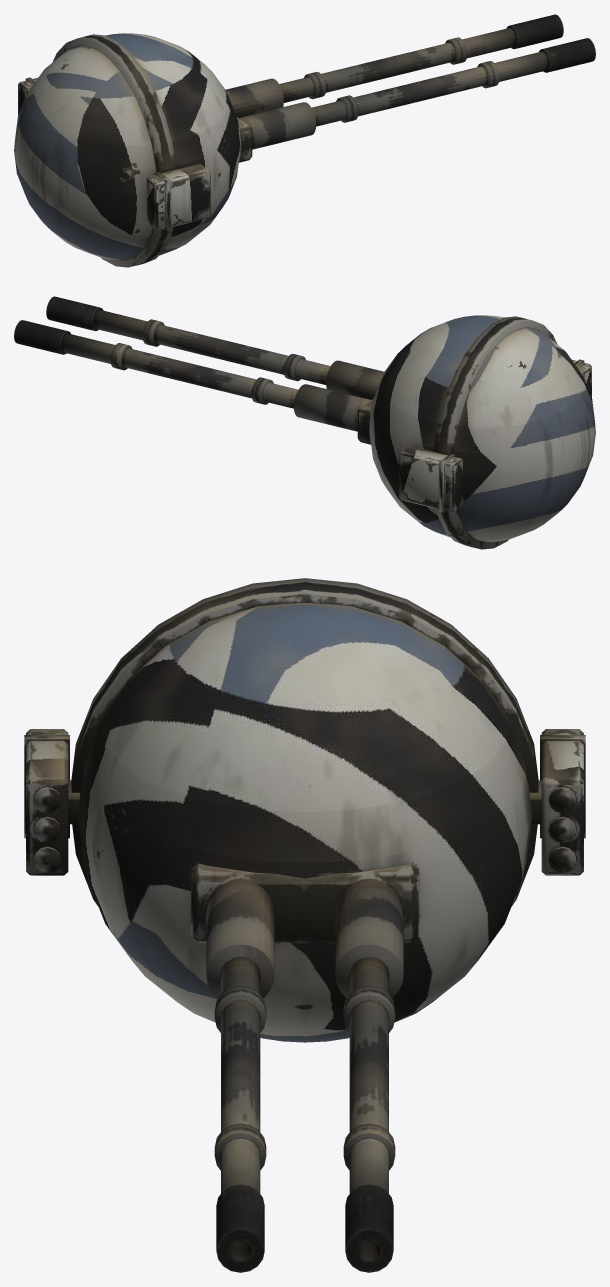
Rendered from turret_kit_tail_ball_t1_dazzle.glb.
The picture shows the model from 3 angles, top to bottom: view 1: azimuth 30°, elevation 25°; view 2: azimuth 150°, elevation 25°; view 3: azimuth 270°, elevation 25°; orthographic projection. The views are drawn at different scales.
Visible parts, largest first — view 1: turret_tail_ball_t1, pods; view 2: turret_tail_ball_t1, pods; view 3: turret_tail_ball_t1, pods.
Boxes of the visible parts, x1,y1,x2,y2 form: turret_tail_ball_t1: (14, 14, 595, 267); pods: (18, 77, 210, 230); turret_tail_ball_t1: (14, 296, 595, 549); pods: (399, 359, 591, 512); turret_tail_ball_t1: (71, 578, 538, 1272); pods: (24, 729, 585, 875).
Size of the model in its own units: 1.66 by 0.62 by 0.7402.
Materials: 2 (2 with a texture image).
